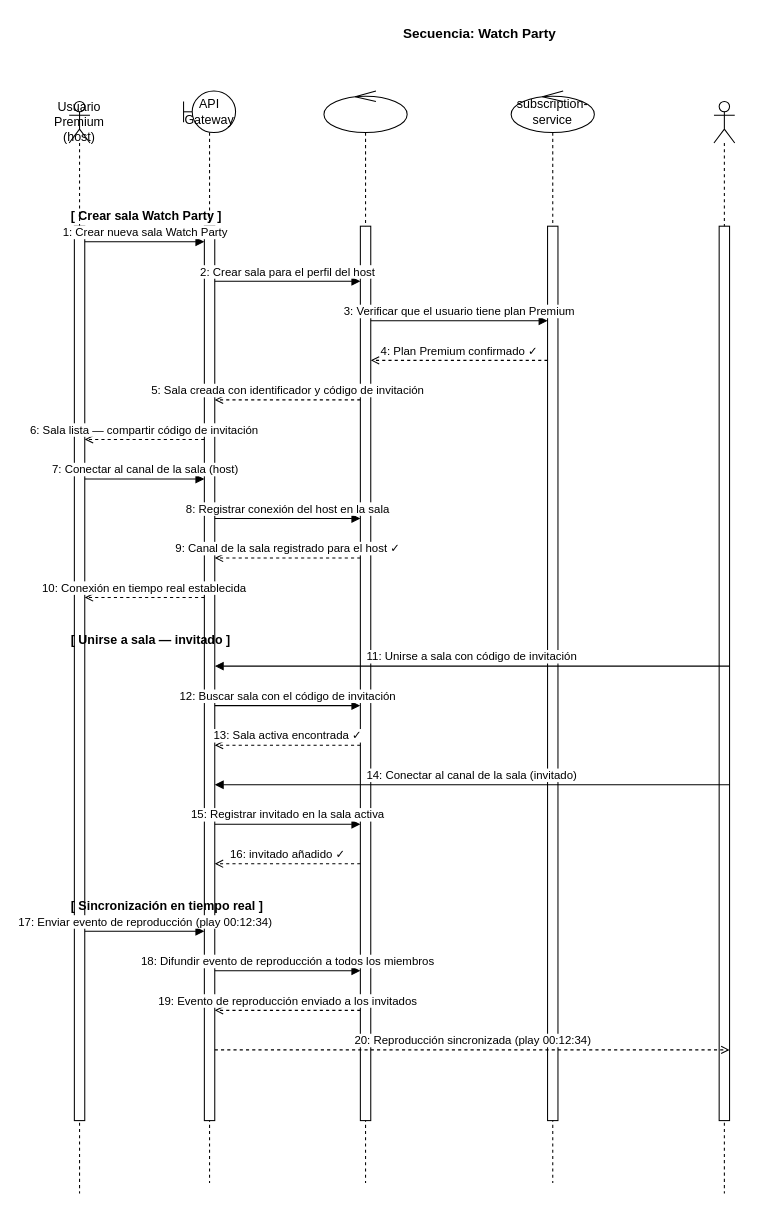
The diagram is 763 pixels wide and 1212 high, and some of its shapes have lost their labels. Each missing label, with the box of its shape:
rooms.ts (WebSocket): (323, 90, 407, 1183)
Usuario Invitado: (713, 100, 735, 1193)
